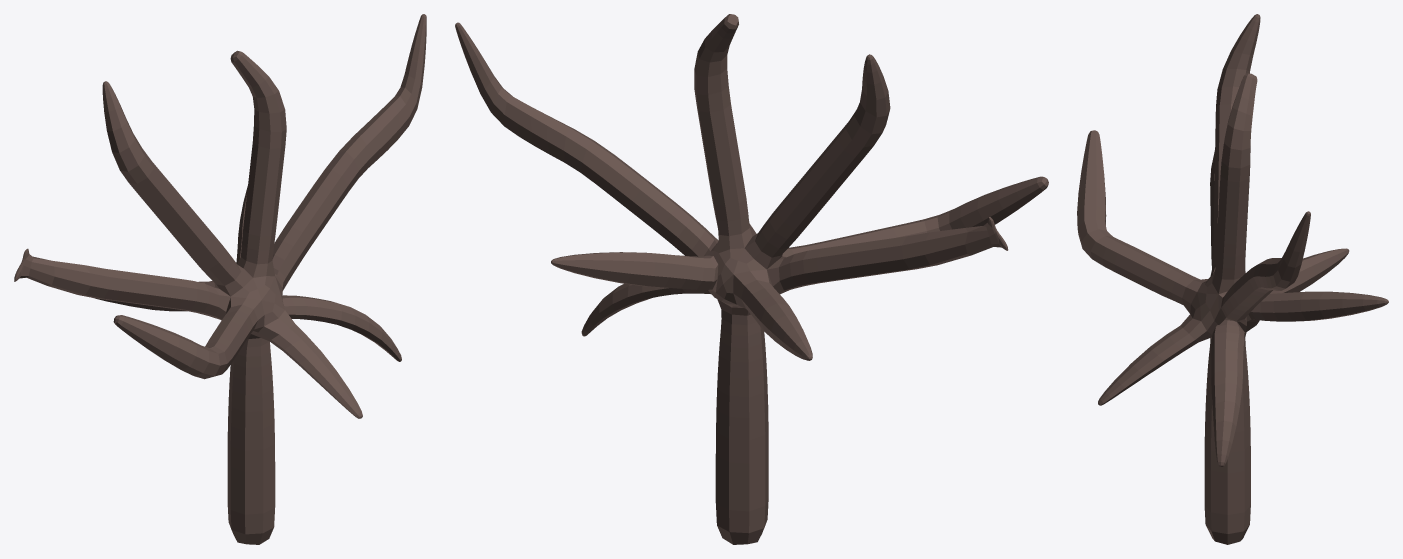
File: DeadTree.fbx
3 renders of one model, left to right at view 1: azimuth 30°, elevation 25°; view 2: azimuth 150°, elevation 25°; view 3: azimuth 270°, elevation 25°, orthographic. The views are drawn at different scales.
Visible parts, largest first — view 1: Plane; view 2: Plane; view 3: Plane.
Part boxes in pixels (left/top/right/bottom): Plane: left=14, top=14, right=426, bottom=544; Plane: left=455, top=14, right=1048, bottom=544; Plane: left=1077, top=14, right=1388, bottom=544.
Size of the model in its own units: 750 by 765 by 461.
